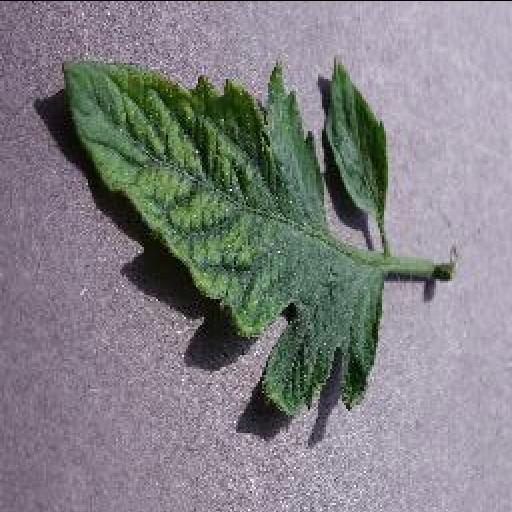Mosaic Virus: (58, 54, 392, 422)
